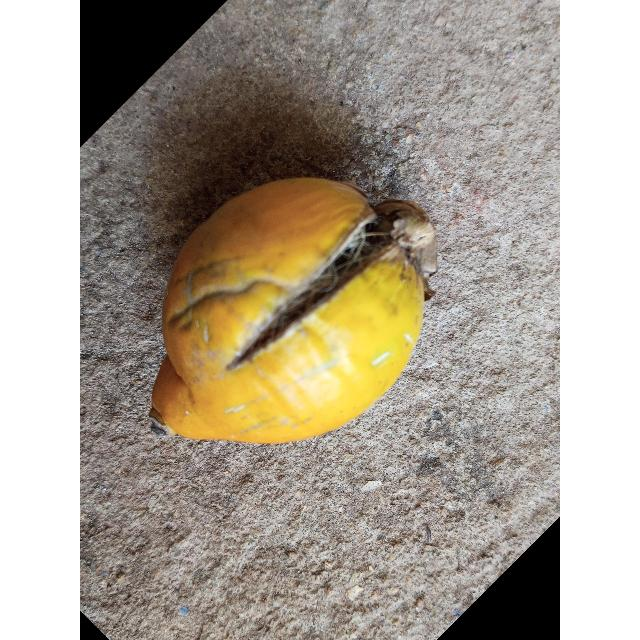damaged: (149, 178, 436, 448)
